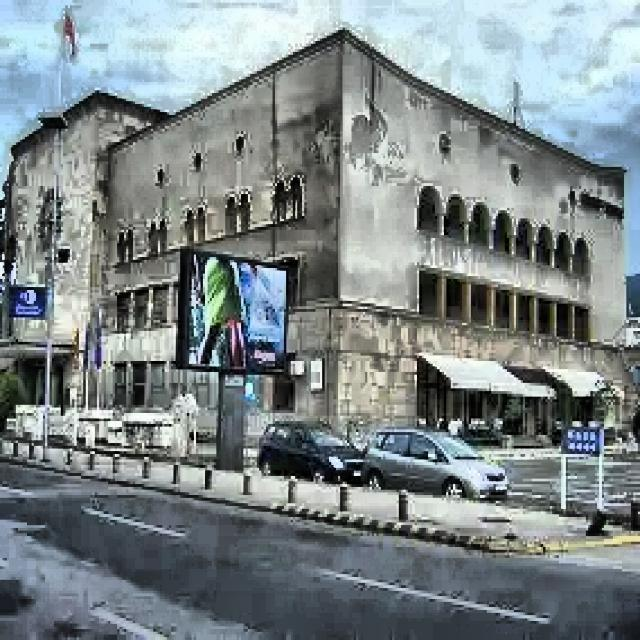old railway: (0, 22, 635, 430)
